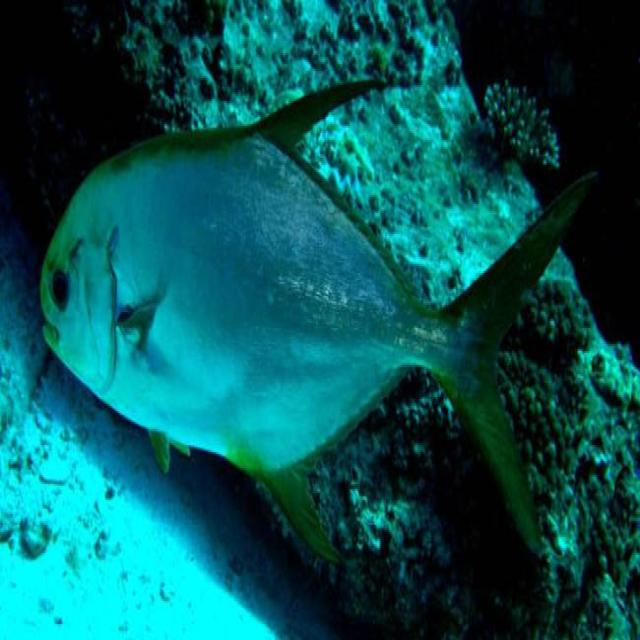ikan: (38, 73, 598, 571)
